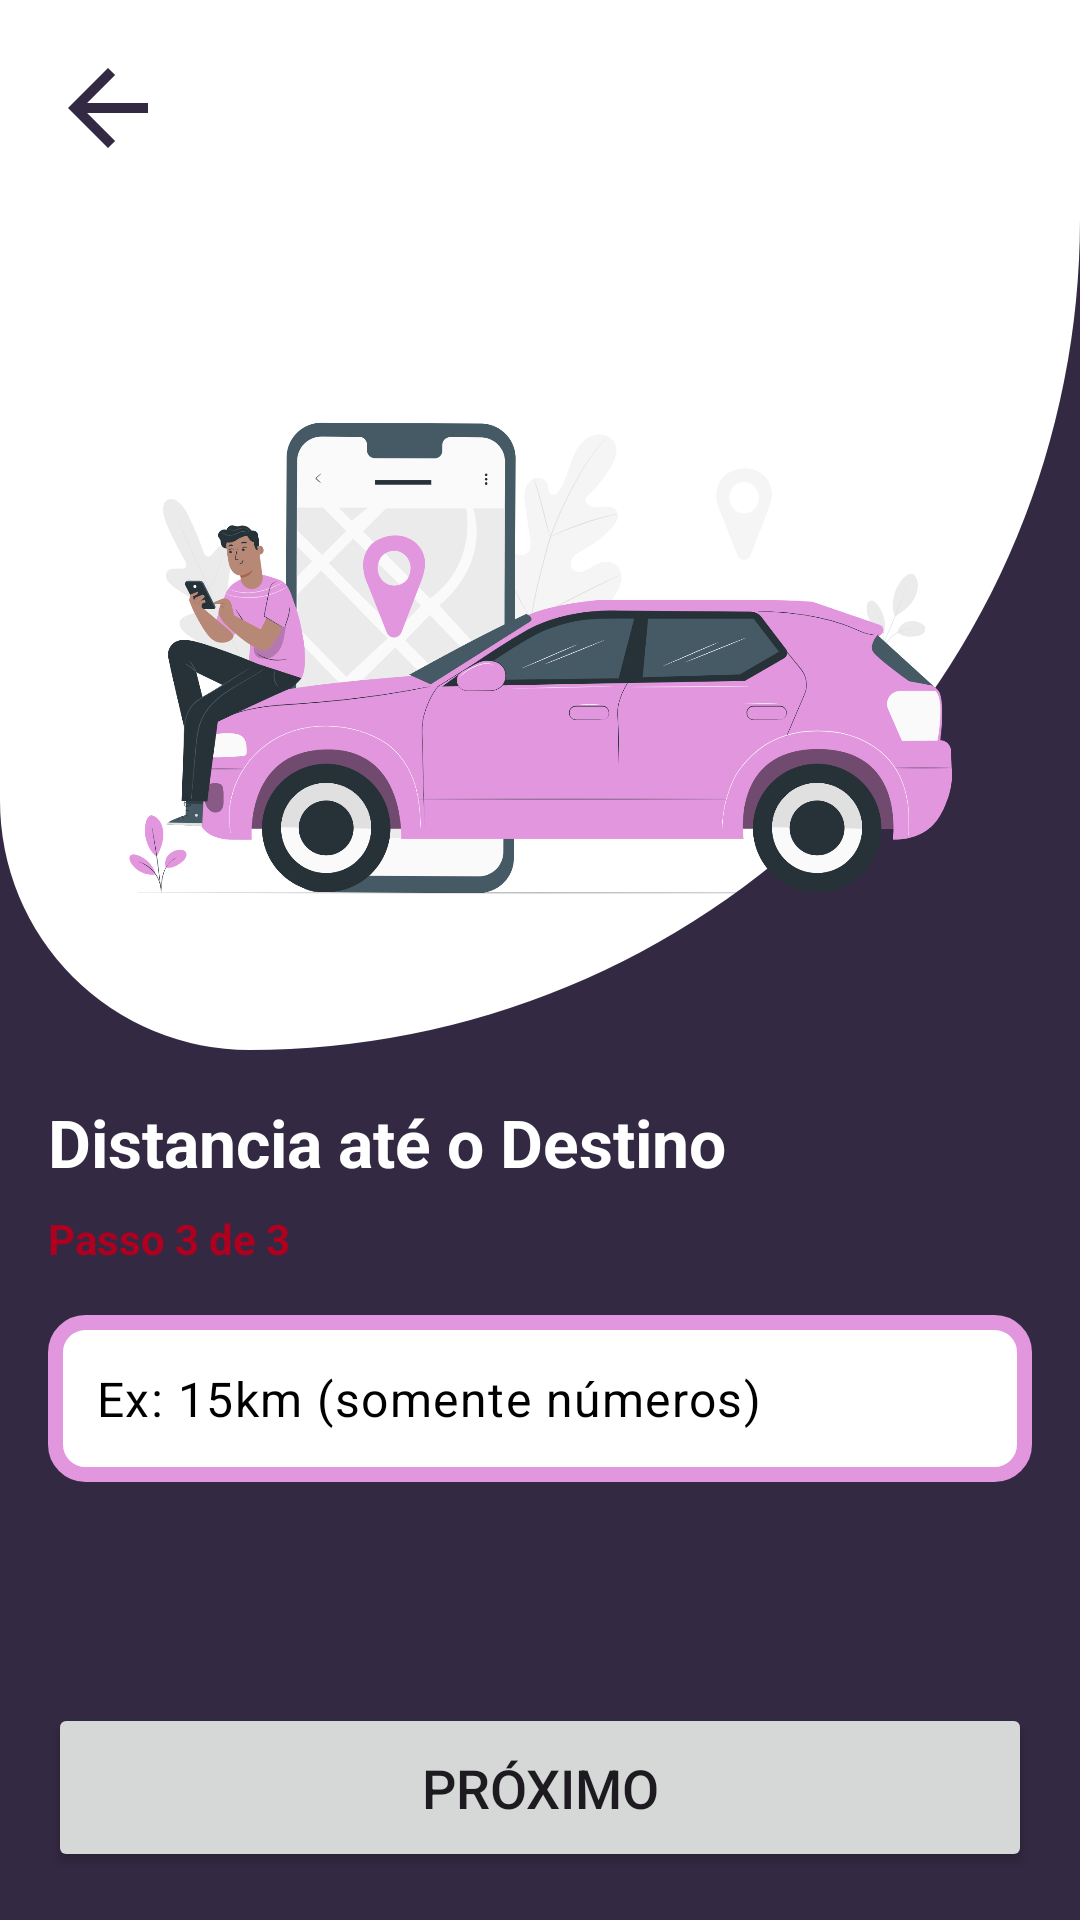

Icon bounding boxes for this 1080px x 1920px phone screenshot, format (x1, y1, x2, y2):
arrow back: (68, 68, 148, 148)
